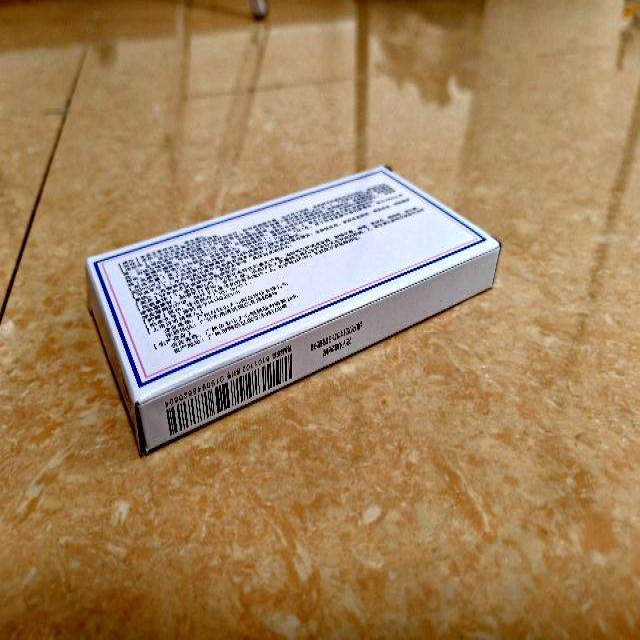box: (88, 161, 500, 455)
